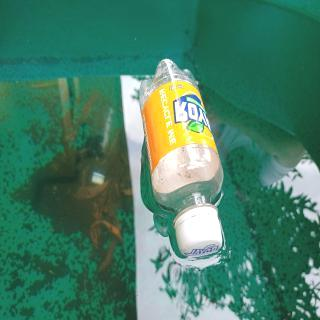bottle: (136, 56, 228, 257)
